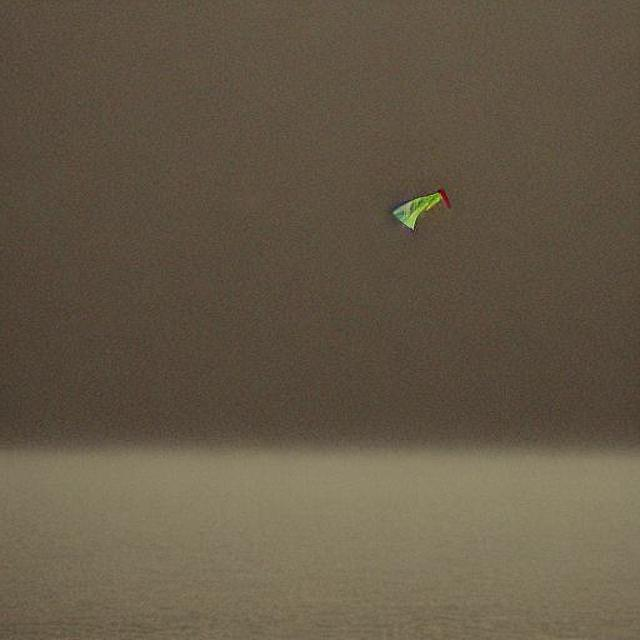floating object: (392, 187, 451, 235)
